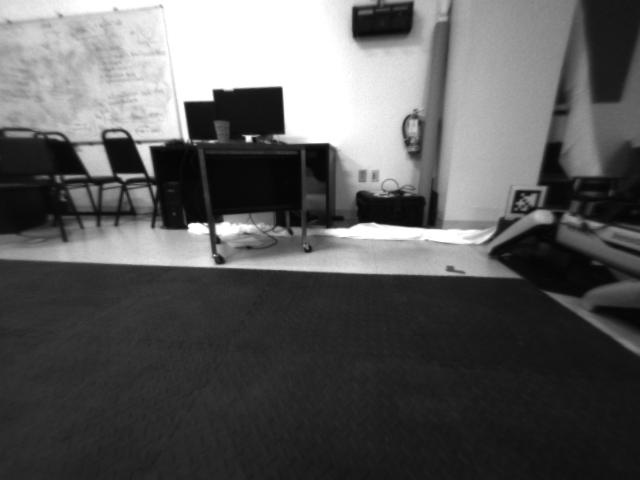coffee_cup: (212, 120, 232, 142)
